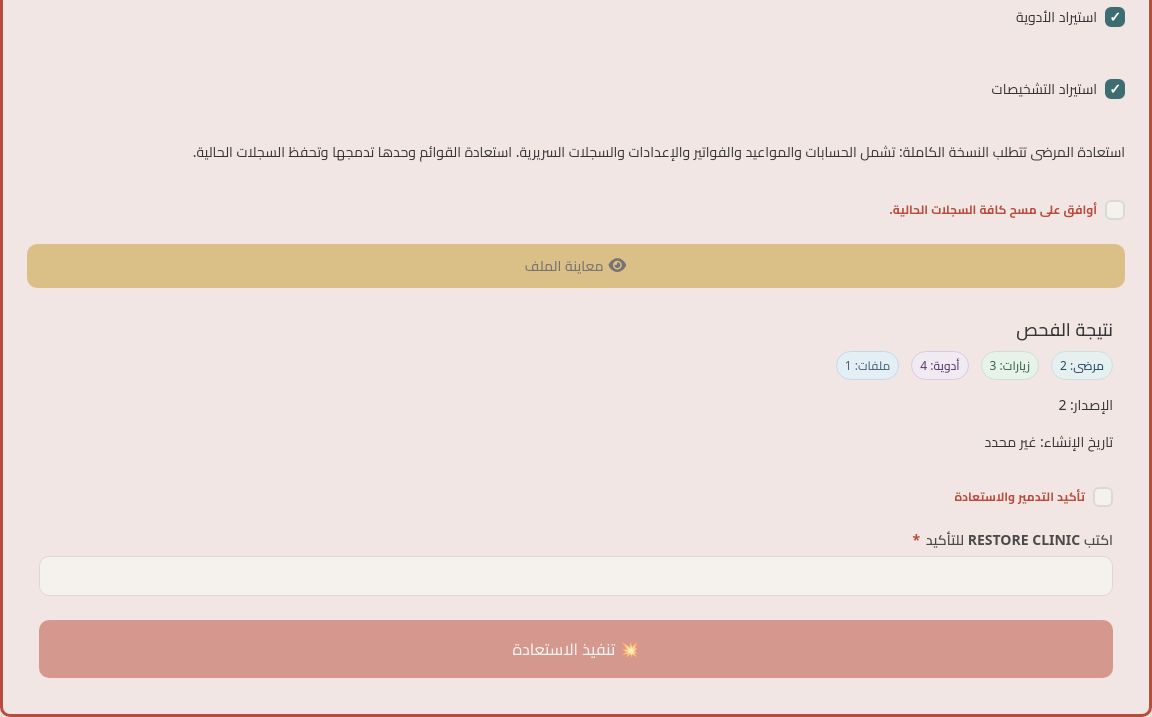
recovery confirmation and scope controls › scope changes reset execution consent and request a new preview
(page scrolled)
Step 1. Click the checkbox labelled "تأكيد التدمير والاستعادة" → [1103, 496], box [1093,486,1113,506]
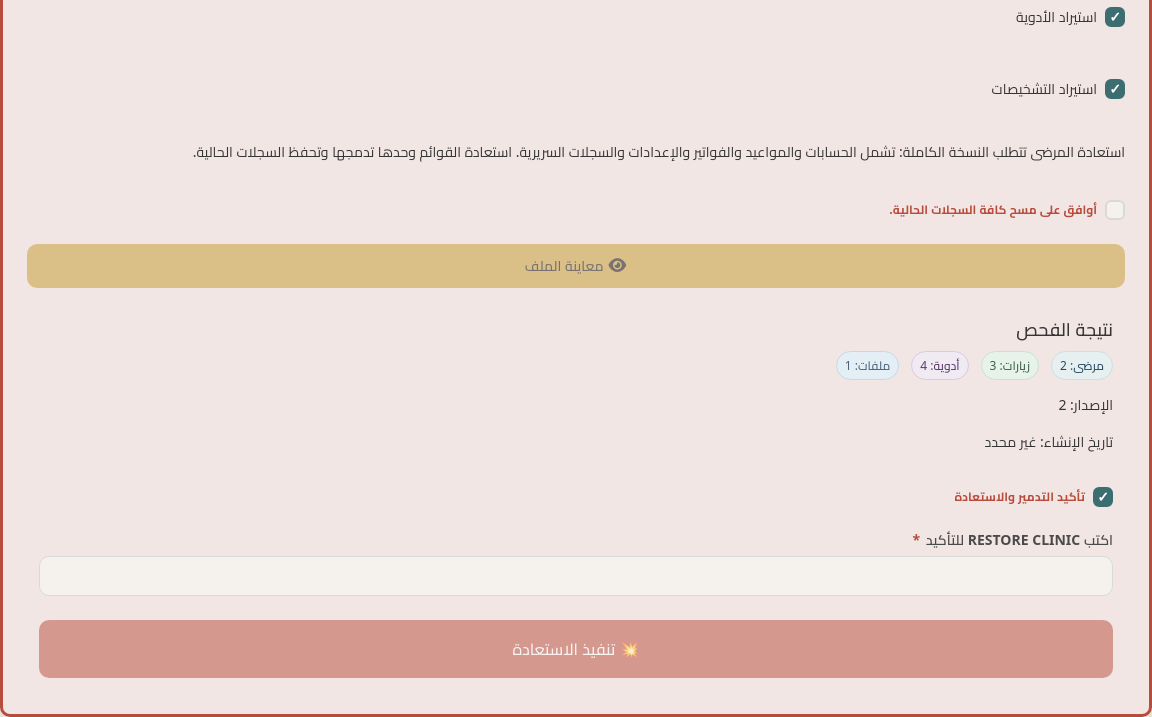
Step 2. Type "RESTORE CLINIC" into the field labelled "اكتب RESTORE CLINIC للتأكيد *" → [576, 576], box [39,556,1113,596]
(page scrolled)
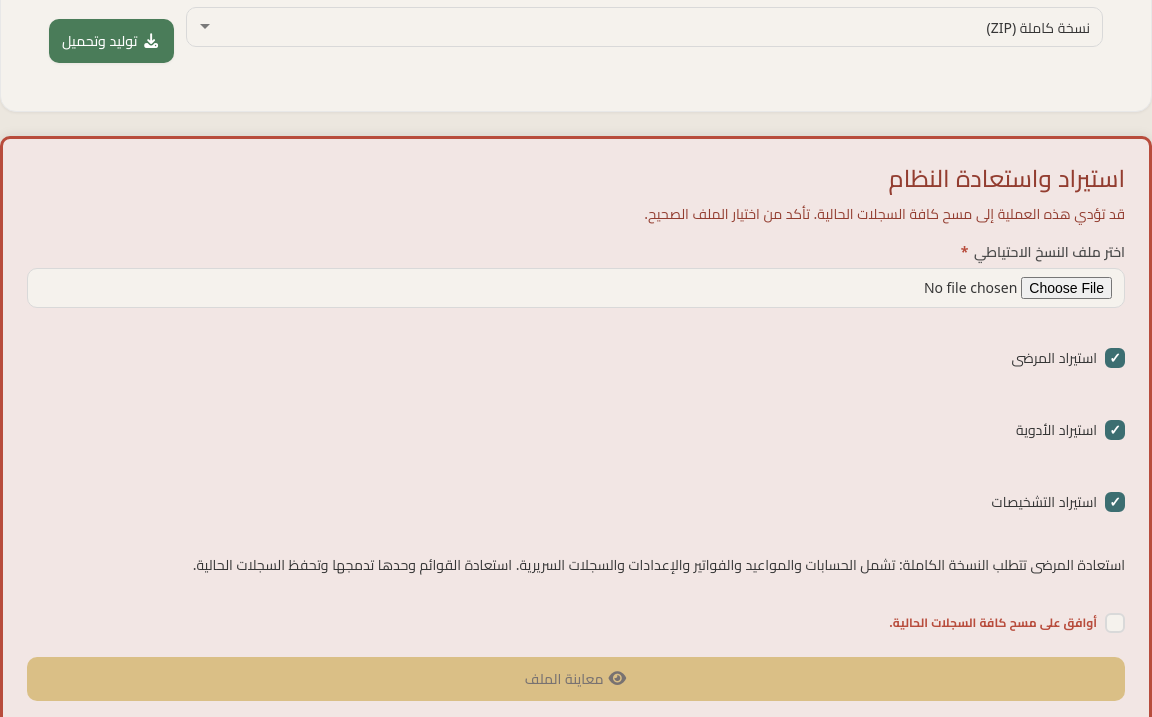
Step 3. Click the checkbox labelled "استيراد المرضى" → [1115, 358], box [1105,348,1125,368]
(page scrolled)
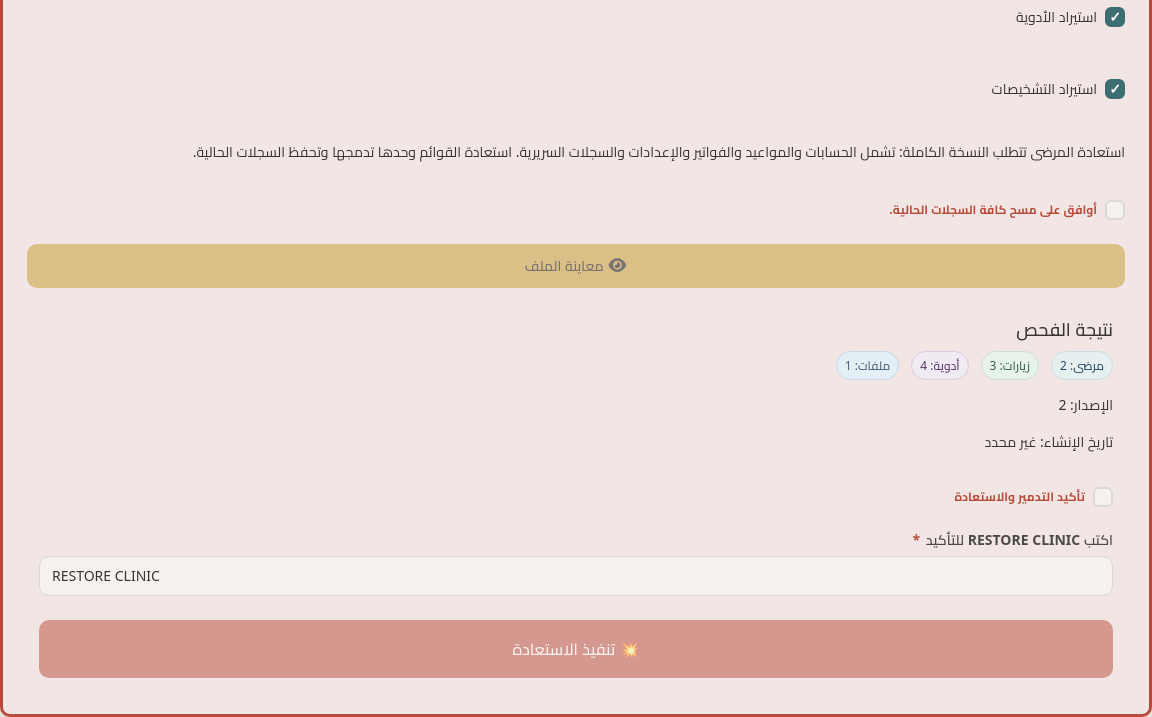
Result: the checkbox labelled "تأكيد التدمير والاستعادة" is not checked at [1093,486,1113,506]
Result: the button "💥 تنفيذ الاستعادة" is disabled at [39,620,1113,678]
